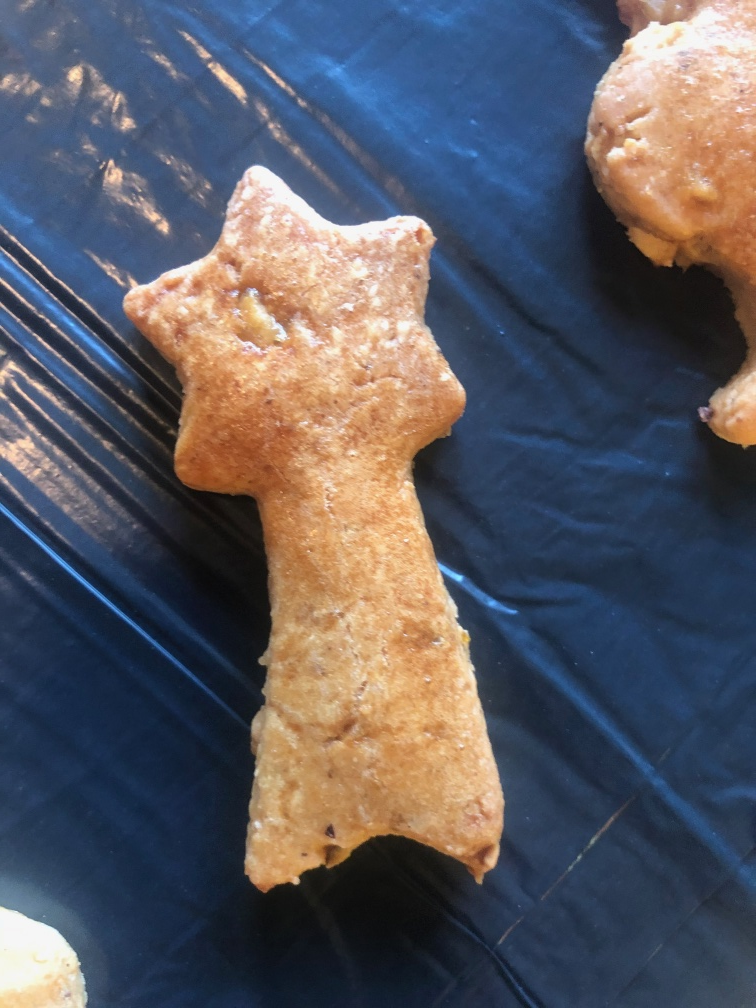shooting star: (120, 156, 515, 906)
